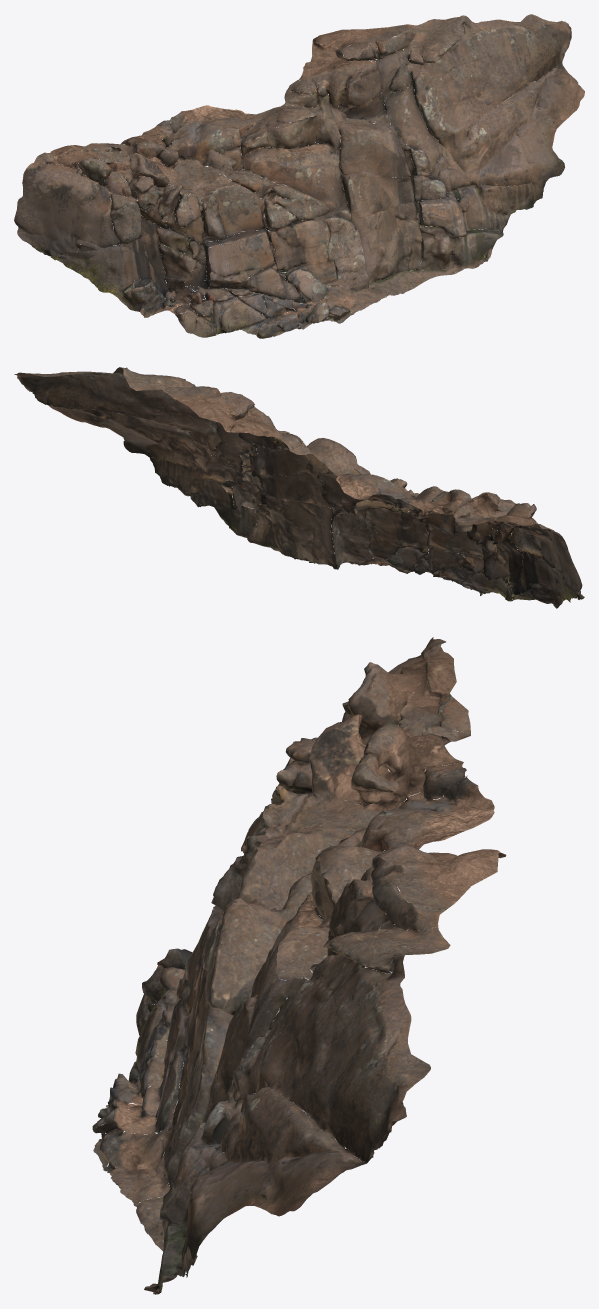
The model's file is namaqualand_cliff_02.fbx.
The picture shows the model from 3 angles, top to bottom: view 1: azimuth 30°, elevation 25°; view 2: azimuth 150°, elevation 25°; view 3: azimuth 270°, elevation 25°; orthographic projection. The views are drawn at different scales.
Visible parts, largest first — view 1: namaqualand_cliff_02.001; view 2: namaqualand_cliff_02.001; view 3: namaqualand_cliff_02.001.
Part boxes in pixels (x1,y1,x2,y2): namaqualand_cliff_02.001: [14, 14, 584, 338]; namaqualand_cliff_02.001: [14, 367, 584, 608]; namaqualand_cliff_02.001: [92, 637, 506, 1294].
Size of the model in its own units: 20.22 by 6.59 by 7.19.
